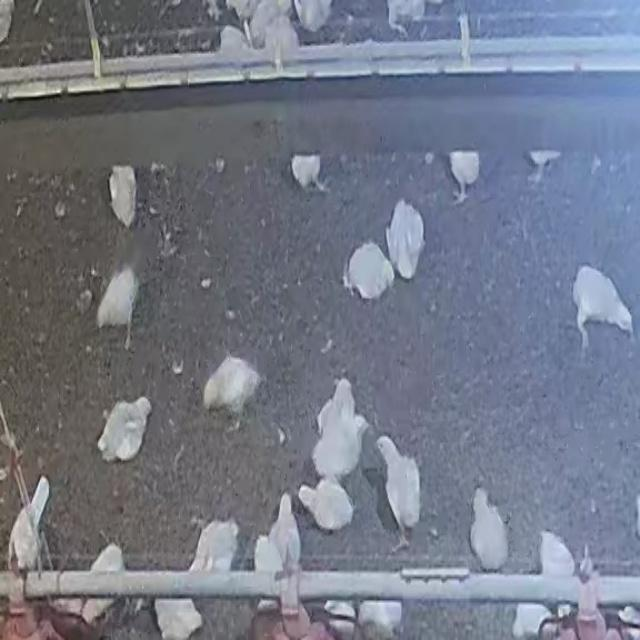chicken: (312, 377, 365, 480), (376, 433, 422, 548), (571, 264, 631, 350), (202, 353, 260, 427), (95, 260, 141, 350), (96, 398, 152, 463), (11, 480, 51, 570), (337, 241, 395, 300), (469, 488, 509, 572), (390, 194, 426, 280), (298, 475, 352, 532), (83, 547, 124, 622), (189, 517, 241, 573), (273, 493, 301, 571), (154, 597, 202, 640), (108, 164, 137, 227), (448, 151, 481, 203), (360, 597, 403, 634), (538, 530, 574, 573), (510, 602, 554, 636), (318, 597, 355, 635), (252, 0, 288, 36), (261, 19, 297, 50), (297, 0, 329, 34), (292, 154, 322, 190), (221, 28, 243, 53)
